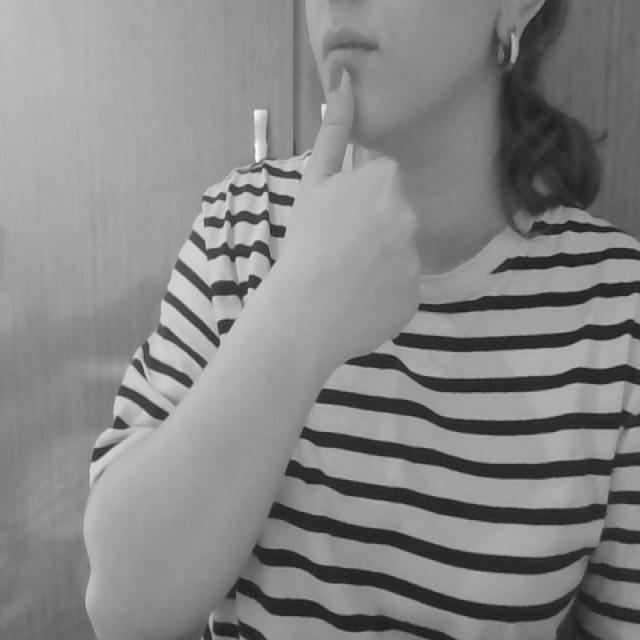Baba: (302, 15, 388, 159)
